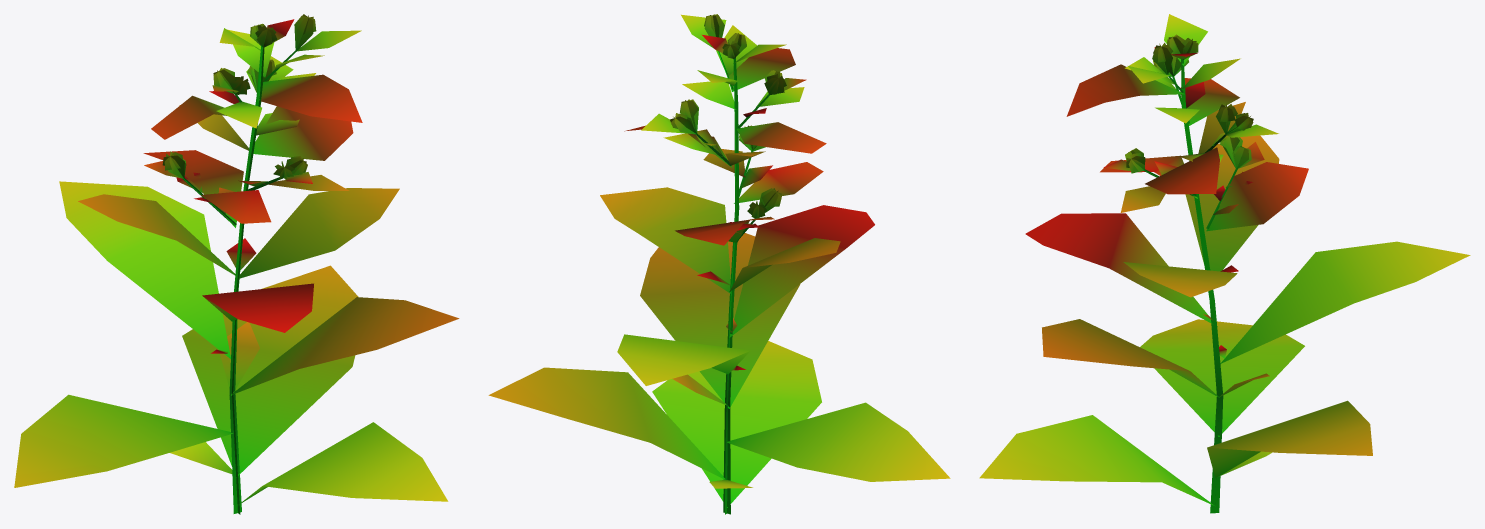
The model's file is Greater Burdock_LOD5_Var2_xh5pdgiqx.fbx.
The picture shows the model from 3 angles, left to right: view 1: azimuth 30°, elevation 25°; view 2: azimuth 150°, elevation 25°; view 3: azimuth 270°, elevation 25°; orthographic projection. The views are drawn at different scales.
Parts seen in each view (by area): view 1: _hv0m_Var2_LOD5; view 2: _hv0m_Var2_LOD5; view 3: _hv0m_Var2_LOD5.
Part boxes in pixels (box(x1,y1,x2,y2)): _hv0m_Var2_LOD5: box(14, 14, 459, 514); _hv0m_Var2_LOD5: box(488, 14, 950, 514); _hv0m_Var2_LOD5: box(979, 14, 1470, 513).
Size of the model in its own units: 78.97 by 94.01 by 85.73.
